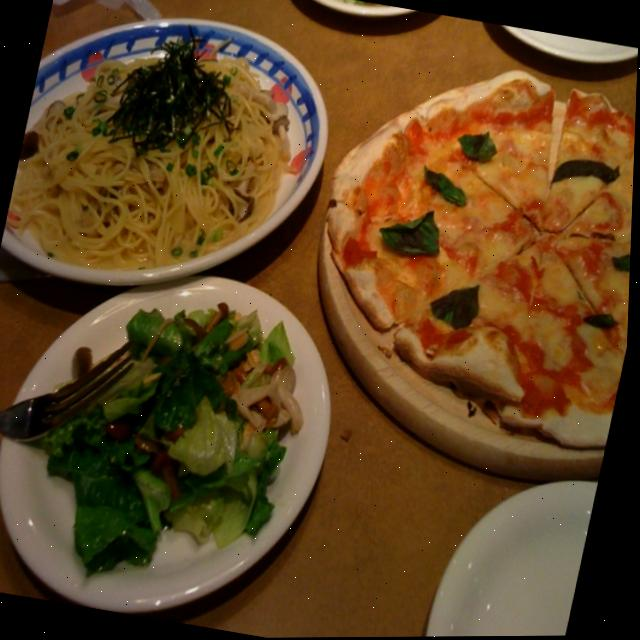汉堡快餐: (242, 32, 639, 474)
蔬菜料理: (0, 234, 360, 640)
